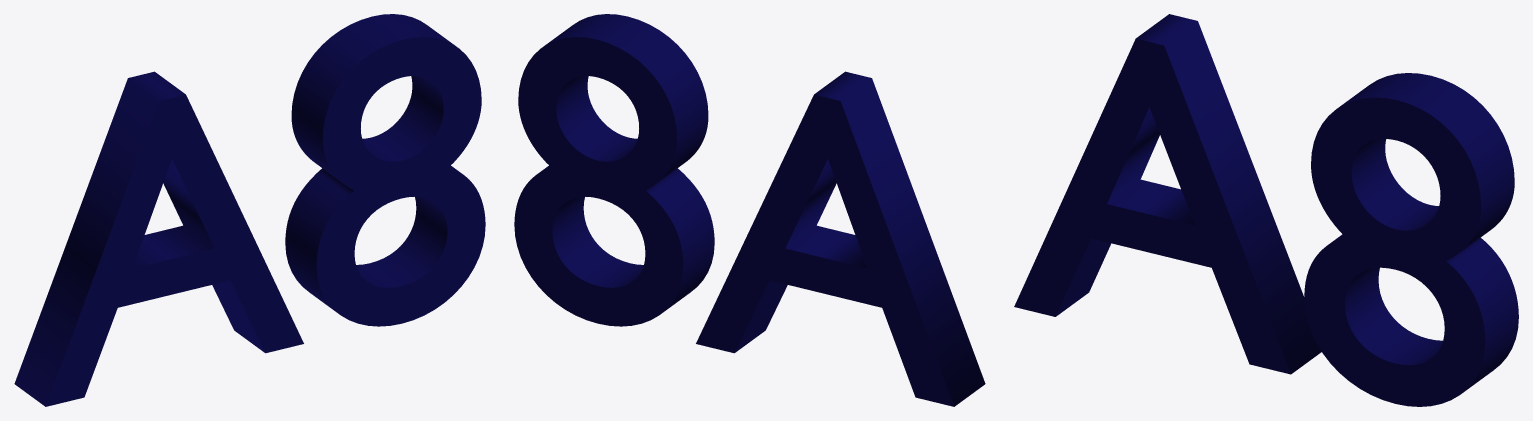
3 views of the same model, side by side, from view 1: azimuth 30°, elevation 25°; view 2: azimuth 150°, elevation 25°; view 3: azimuth 330°, elevation 25° (orthographic). The views are drawn at different scales.
Visible parts, largest first — view 1: Text; view 2: Text; view 3: Text.
Boxes of the visible parts, box(x1,y1,x2,y2) form: Text: box(14, 14, 485, 406); Text: box(514, 14, 985, 406); Text: box(1014, 14, 1518, 406).
Bounding box in the file's own units: 114 × 70 × 14.
